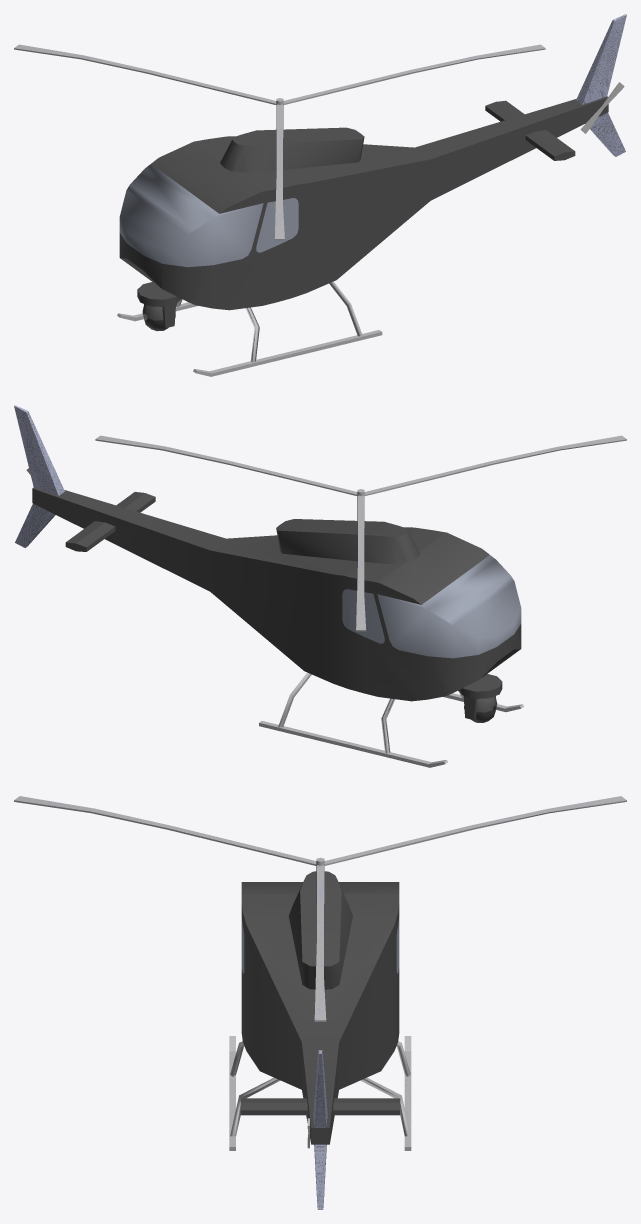
The model's file is truc-thang-helicopter.fbx.
The picture shows the model from 3 angles, top to bottom: view 1: azimuth 30°, elevation 25°; view 2: azimuth 150°, elevation 25°; view 3: azimuth 270°, elevation 25°; orthographic projection. The views are drawn at different scales.
Parts seen in each view (by area): view 1: Group1, helicopter_and_camera_pod1, Group2, Component_12_2, Component_12_1, Component_11_1, Component_12_3, Group4; view 2: Group1, helicopter_and_camera_pod1, Group2, Component_12_1, Component_12_3, Component_11_2, Component_12_2, Group4; view 3: Group1, Group2, Component_12_3, Component_12_2, helicopter_and_camera_pod1, Component_12_1, Component_10_2, Component_11_2, Component_11_1.
Boxes of the visible parts, <box> form: Group1: <box>119,96,608,310</box>; helicopter_and_camera_pod1: <box>276,14,626,156</box>; Group2: <box>485,100,575,160</box>; Component_12_2: <box>14,44,276,104</box>; Component_12_1: <box>283,44,545,104</box>; Component_11_1: <box>193,330,382,376</box>; Component_12_3: <box>274,104,284,240</box>; Group4: <box>137,282,181,306</box>; Group1: <box>32,487,521,701</box>; helicopter_and_camera_pod1: <box>14,405,364,547</box>; Group2: <box>65,492,155,551</box>; Component_12_1: <box>95,435,357,495</box>; Component_12_3: <box>364,435,626,495</box>; Component_11_2: <box>259,721,447,767</box>; Component_12_2: <box>356,495,366,631</box>; Group4: <box>458,674,502,698</box>; Group1: <box>241,871,399,1144</box>; Group2: <box>240,1098,400,1115</box>; Component_12_3: <box>14,796,316,865</box>; Component_12_2: <box>324,796,626,865</box>; helicopter_and_camera_pod1: <box>313,857,327,1209</box>; Component_12_1: <box>314,865,326,1021</box>; Component_10_2: <box>230,1077,410,1136</box>; Component_11_2: <box>404,1036,411,1150</box>; Component_11_1: <box>229,1036,235,1150</box>.
Bounding box in the file's own units: 7.14 × 3.09 × 6.69.
